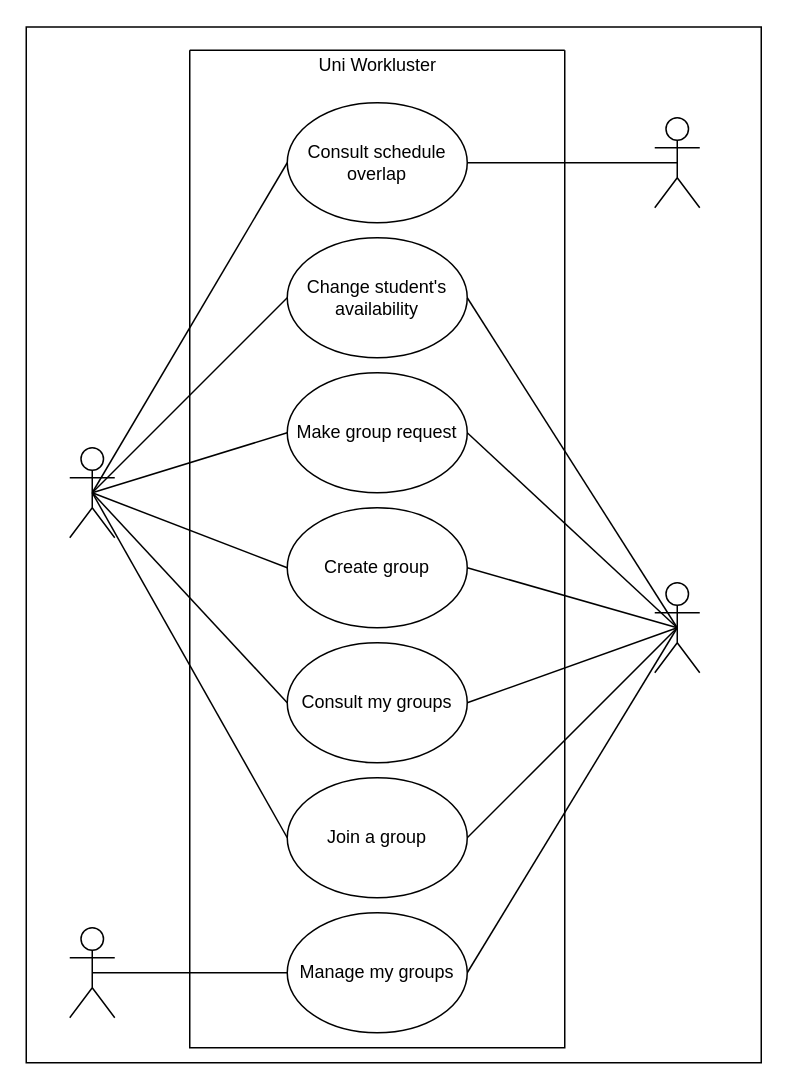
Some shapes in this 788 by 1089 pixel diagram are drawn without their labels. Each missing label, with the box of its shape:
Group DB: (653, 581, 700, 673)
Group Owner: (68, 926, 115, 1018)
SIGARRA: (653, 116, 700, 208)
User: (68, 446, 115, 538)
